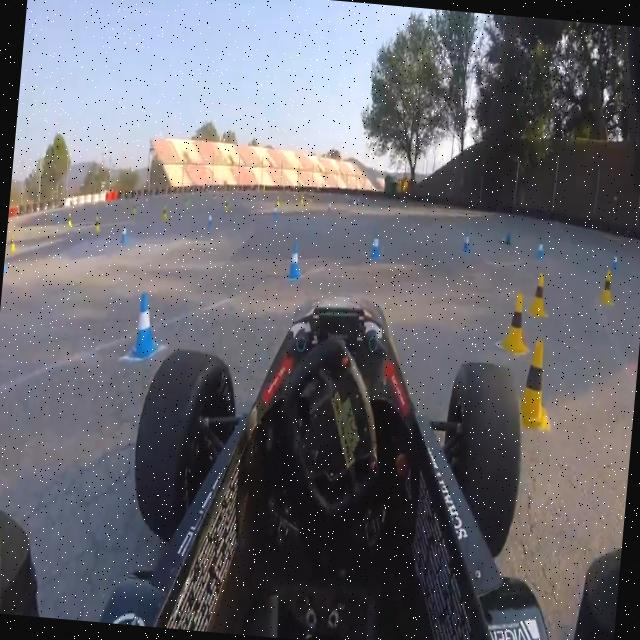blue_cone: (125, 282, 168, 358), (280, 227, 308, 284), (364, 222, 386, 262), (455, 220, 479, 254)
yellow_cone: (518, 333, 554, 431), (502, 288, 531, 357), (593, 261, 619, 311), (530, 262, 554, 316)
